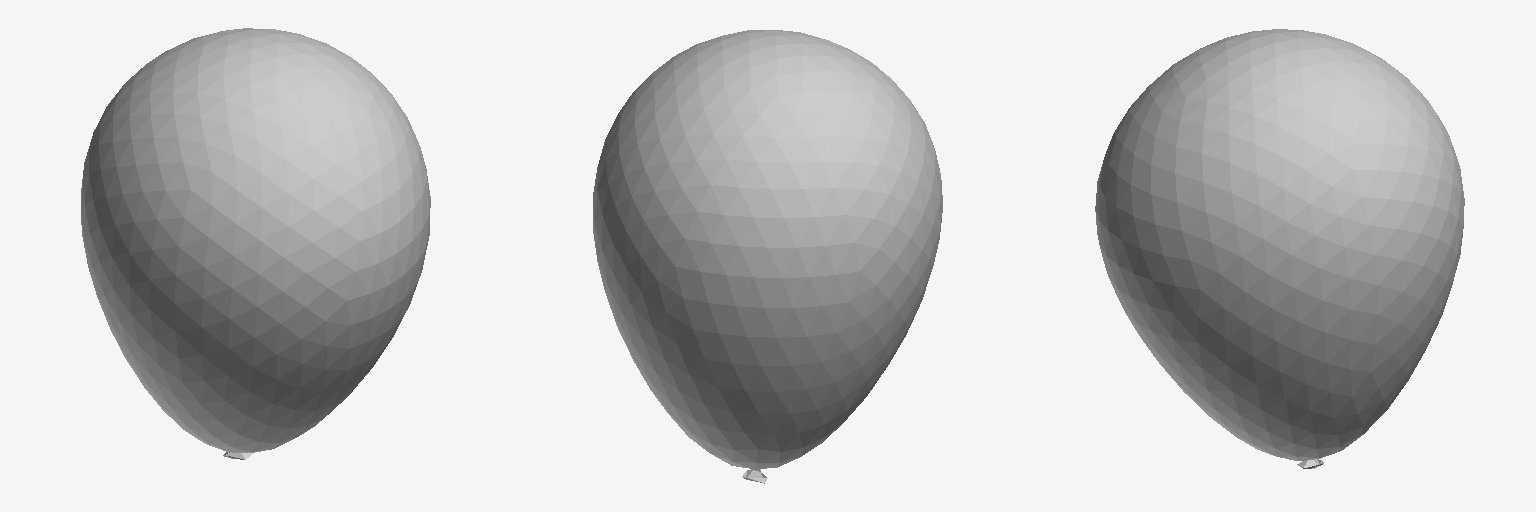
Rendered from ballon.obj.
3 views of the same model, side by side, from view 1: azimuth 30°, elevation 25°; view 2: azimuth 150°, elevation 25°; view 3: azimuth 270°, elevation 25° (orthographic).
Parts seen in each view (by area): view 1: GeoSphere01_1; view 2: GeoSphere01_1; view 3: GeoSphere01_1.
Part boxes in pixels (left/top/right/bottom): GeoSphere01_1: left=81, top=28, right=430, bottom=459; GeoSphere01_1: left=593, top=30, right=942, bottom=483; GeoSphere01_1: left=1095, top=29, right=1464, bottom=468.
Size of the model in its own units: 98.43 by 133 by 105.